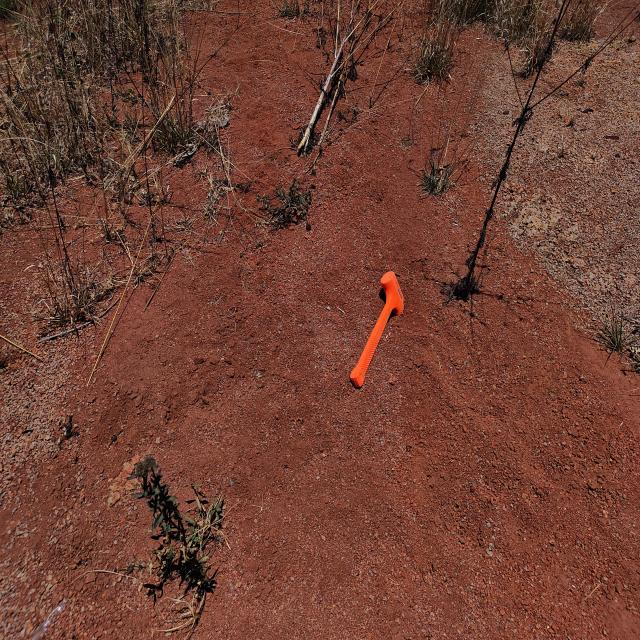Orange_hammer: (349, 270, 404, 389)
